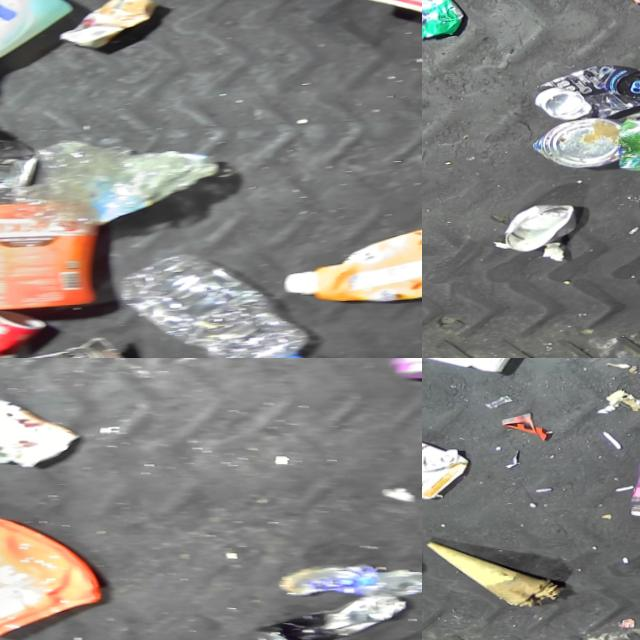can: (250, 594, 410, 640), (534, 64, 640, 123), (54, 0, 160, 53), (532, 118, 622, 172), (501, 204, 578, 254), (0, 333, 151, 358), (0, 306, 51, 358), (422, 0, 464, 41), (617, 109, 640, 171)
milk_jug: (0, 0, 79, 78)
non_white_jug: (0, 512, 111, 640), (280, 224, 422, 308), (0, 198, 102, 313), (422, 426, 472, 501)
plastic_bottle: (108, 250, 317, 358), (0, 137, 220, 229), (274, 561, 422, 604)
